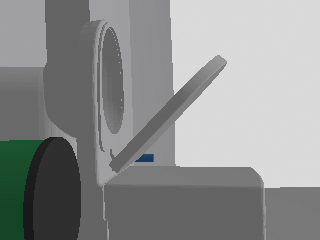lid_1: (110, 55, 226, 173)
